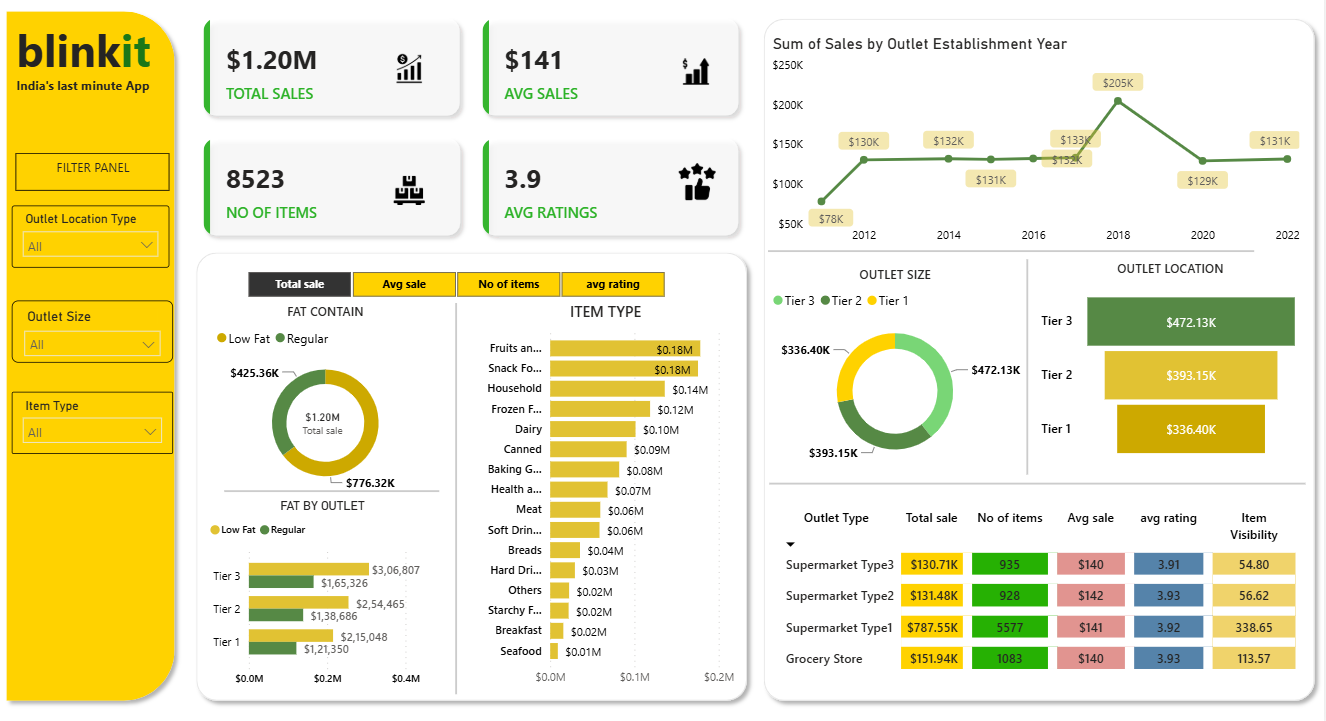

The page's visual inventory and layout, read from the dashboard file:
{"tool":"powerbi","page":{"name":"Page 1","canvas":[1438,800],"ordinal":0},"visuals":[{"type":"shape","box":[5.4,16.2,200,763.5],"z":0},{"type":"textbox","box":[20.1,28.1,179.6,80.4],"z":1000},{"type":"textbox","box":[250.6,505.2,199.7,261.3],"z":2000},{"type":"textbox","box":[20.1,91.1,170.2,33.5],"z":3000},{"type":"cardVisual","fields":{"Data":["Sum(BlinkIT Grocery Data.Sales)","Avg(BlinkIT Grocery Data.Sales)","BlinkIT Grocery Data.No of items","Avg(BlinkIT Grocery Data.Rating)"]},"box":[210.8,16.2,613.5,268.9],"z":4000},{"type":"shape","box":[210.8,277,613.5,502.7],"z":5000},{"type":"donutChart","title":"FAT CONTAIN","fields":{"Y":["BlinkIT Grocery Data.Total sale"],"Category":["BlinkIT Grocery Data.Item Fat Content"]},"box":[236.5,340.5,245.9,212.2],"z":6000},{"type":"slicer","fields":{"Values":["metrics.metrics"]},"box":[250,300,500,40.5],"z":7000},{"type":"cardVisual","fields":{"Data":["BlinkIT Grocery Data.Total sale"]},"box":[283.8,436.5,145.9,68.9],"z":8000},{"type":"clusteredBarChart","title":"FAT BY OUTLET","fields":{"Y":["BlinkIT Grocery Data.Total sale"],"Category":["BlinkIT Grocery Data.Outlet Location Type"],"Series":["BlinkIT Grocery Data.Item Fat Content"]},"box":[229.7,552.7,252.7,210.8],"z":9000},{"type":"shape","box":[250,528.4,232.4,31.1],"z":10000},{"type":"shape","box":[482.4,340.5,36.5,423],"z":10001},{"type":"barChart","title":" ITEM TYPE","fields":{"Category":["BlinkIT Grocery Data.Item Type"],"Y":["BlinkIT Grocery Data.Total sale"]},"box":[517.6,337.8,289.2,425.7],"z":10002},{"type":"shape","box":[824.3,24.3,613.5,755.4],"z":10003},{"type":"lineChart","fields":{"Category":["BlinkIT Grocery Data.Outlet Establishment Year"],"Y":["Sum(BlinkIT Grocery Data.Sales)"]},"box":[837.8,50,579.7,235.1],"z":10004},{"type":"shape","box":[837.8,268.9,525.7,31.1],"z":10005},{"type":"donutChart","title":"OUTLET SIZE","fields":{"Y":["BlinkIT Grocery Data.Total sale"],"Category":["BlinkIT Grocery Data.Outlet Location Type"]},"box":[837.8,300,275,225],"z":10006},{"type":"shape","box":[1101.4,293.2,33.8,232.4],"z":10007},{"type":"funnel","title":"OUTLET LOCATION","fields":{"Y":["Sum(BlinkIT Grocery Data.Sales)"],"Category":["BlinkIT Grocery Data.Outlet Location Type"]},"box":[1128.4,293.2,289.2,232.4],"z":10008},{"type":"shape","box":[839.2,520.3,579.7,31.1],"z":10009},{"type":"pivotTable","fields":{"Rows":["BlinkIT Grocery Data.Outlet Type"],"Values":["BlinkIT Grocery Data.Total sale","BlinkIT Grocery Data.No of items","BlinkIT Grocery Data.Avg sale","BlinkIT Grocery Data.avg rating","Sum(BlinkIT Grocery Data.Item Visibility)"]},"box":[847.3,555.4,567.6,210.8],"z":10010},{"type":"slicer","fields":{"Values":["BlinkIT Grocery Data.Outlet Location Type"]},"box":[20.3,235.1,170.3,67.6],"z":10011},{"type":"slicer","fields":{"Values":["BlinkIT Grocery Data.Outlet Size"]},"box":[20.3,337.8,174.3,67.6],"z":10012},{"type":"slicer","fields":{"Values":["BlinkIT Grocery Data.Item Type"]},"box":[20.3,436.5,174.3,67.6],"z":10013},{"type":"textbox","box":[24.3,178.4,166.2,40.5],"z":10014},{"type":"image","box":[739.2,70.3,41.9,40.5],"z":10015},{"type":"image","box":[428.4,193.2,43.2,51.4],"z":10016},{"type":"image","box":[736.5,183.8,50,51.4],"z":10017},{"type":"image","box":[428.4,66.2,43.2,41.9],"z":10018}]}

Visuals, with their boxes in screenshot pixels (x1, y1, x2, y2), scaled from the page's 1438x800 canvas onto the 1326x721 screenshot:
shape: 5:15:189:703
textbox: 19:25:184:98
textbox: 231:455:415:691
textbox: 19:82:175:112
cardVisual - Sum(BlinkIT Grocery Data.Sales) x Avg(BlinkIT Grocery Data.Sales): 194:15:760:257
shape: 194:250:760:703
"FAT CONTAIN" donutChart: 218:307:445:498
slicer - metrics.metrics: 231:270:692:307
cardVisual - BlinkIT Grocery Data.Total sale: 262:393:396:455
"FAT BY OUTLET" clusteredBarChart: 212:498:445:688
shape: 231:476:445:504
shape: 445:307:478:688
" ITEM TYPE" barChart: 477:304:744:688
shape: 760:22:1325:703
lineChart - BlinkIT Grocery Data.Outlet Establishment Year x Sum(BlinkIT Grocery Data.Sales): 773:45:1307:257
shape: 773:242:1257:270
"OUTLET SIZE" donutChart: 773:270:1026:473
shape: 1016:264:1047:474
"OUTLET LOCATION" funnel: 1041:264:1307:474
shape: 774:469:1308:497
pivotTable - BlinkIT Grocery Data.Outlet Type x BlinkIT Grocery Data.Total sale: 781:501:1305:691
slicer - BlinkIT Grocery Data.Outlet Location Type: 19:212:176:273
slicer - BlinkIT Grocery Data.Outlet Size: 19:304:179:365
slicer - BlinkIT Grocery Data.Item Type: 19:393:179:454
textbox: 22:161:176:197
image: 682:63:720:100
image: 395:174:435:220
image: 679:166:725:212
image: 395:60:435:97
